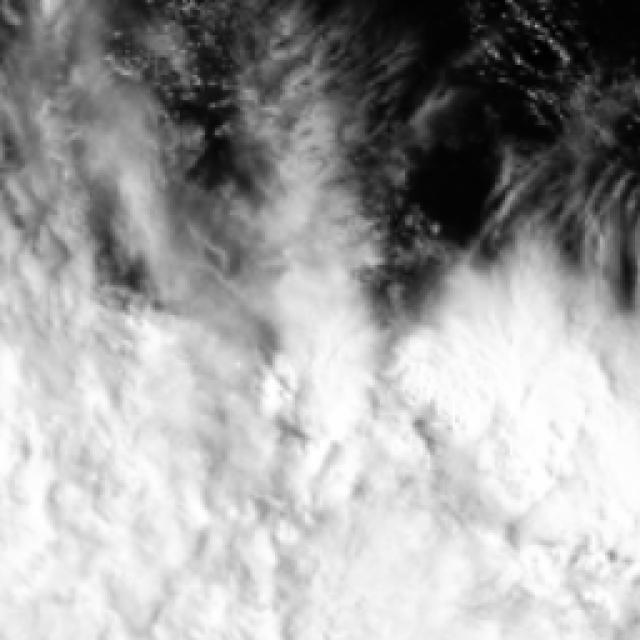CB: (422, 333, 606, 486), (345, 517, 501, 640)
